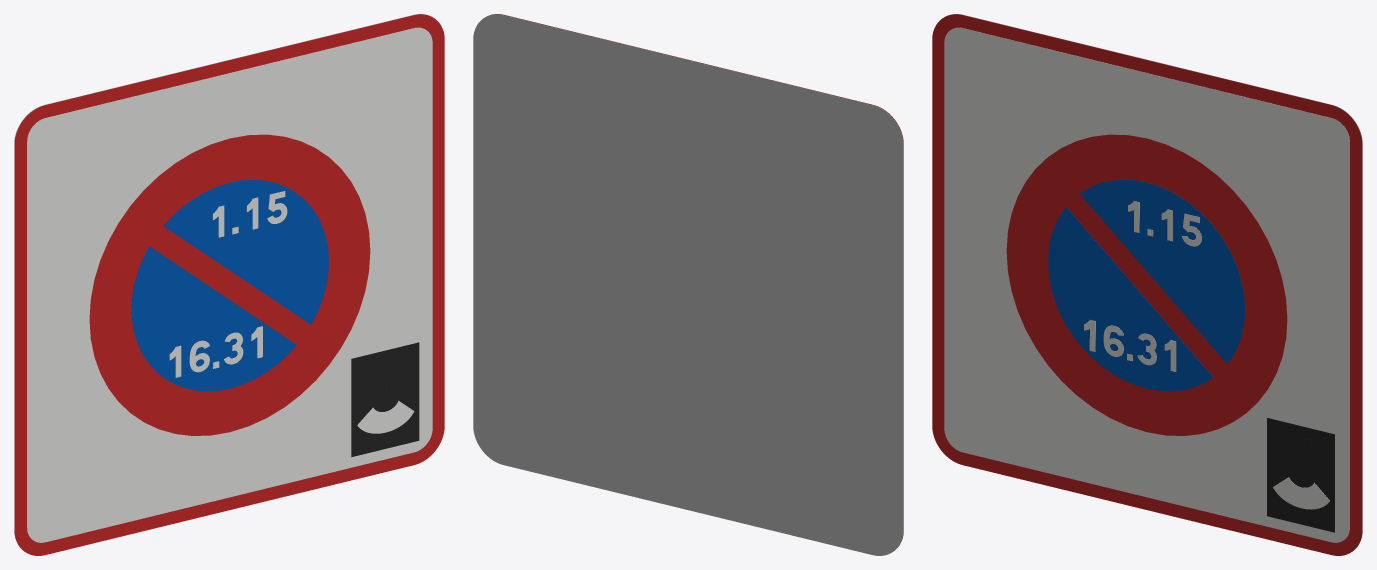
The picture shows the model from 3 angles, left to right: view 1: azimuth 30°, elevation 25°; view 2: azimuth 150°, elevation 25°; view 3: azimuth 330°, elevation 25°; orthographic projection.
Parts seen in each view (by area): view 1: B6b5_p01, B6b5_p02, B6b5_p00, B6b5_p06, B6b5_p04, B6b5_p07, B6b5_p08, B6b5_dos; view 2: B6b5_dos, B6b5_p00; view 3: B6b5_p01, B6b5_p02, B6b5_p00, B6b5_p06, B6b5_p04, B6b5_p07, B6b5_p08, B6b5_dos.
Boxes of the visible parts, x1=… form: B6b5_p01: x1=27, y1=27, x2=432, y2=542; B6b5_p02: x1=89, y1=134, x2=370, y2=435; B6b5_p00: x1=14, y1=14, x2=444, y2=555; B6b5_p06: x1=163, y1=179, x2=328, y2=324; B6b5_p04: x1=131, y1=246, x2=296, y2=391; B6b5_p07: x1=351, y1=342, x2=419, y2=457; B6b5_p08: x1=357, y1=400, x2=414, y2=433; B6b5_dos: x1=14, y1=14, x2=426, y2=546; B6b5_dos: x1=473, y1=14, x2=903, y2=555; B6b5_p00: x1=491, y1=14, x2=903, y2=546; B6b5_p01: x1=944, y1=27, x2=1349, y2=542; B6b5_p02: x1=1006, y1=134, x2=1287, y2=435; B6b5_p00: x1=932, y1=14, x2=1362, y2=555; B6b5_p06: x1=1080, y1=179, x2=1245, y2=364; B6b5_p04: x1=1048, y1=207, x2=1213, y2=391; B6b5_p07: x1=1267, y1=418, x2=1334, y2=532; B6b5_p08: x1=1273, y1=477, x2=1329, y2=509; B6b5_dos: x1=950, y1=14, x2=1362, y2=546.
Size of the model in its own units: 0.85 by 0.8498 by 0.0091.
